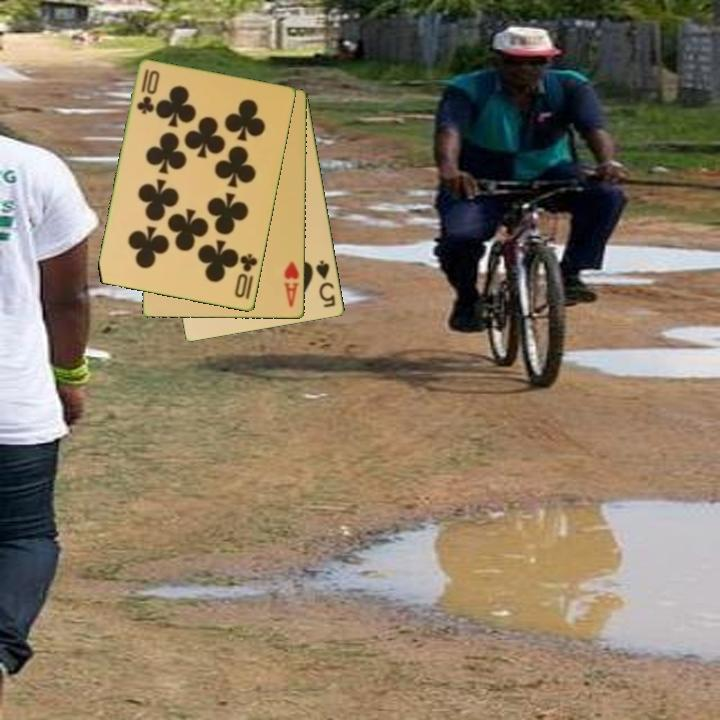10c: (231, 250, 261, 301), (133, 66, 162, 118)
5s: (313, 257, 339, 311)
Ah: (281, 258, 302, 311)
